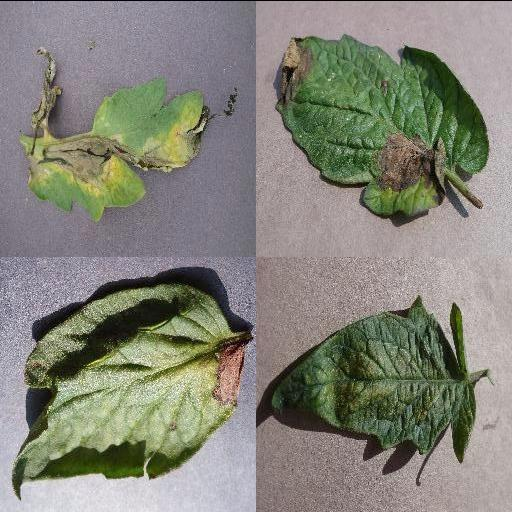Late Blight: (9, 280, 253, 500), (20, 43, 236, 223), (273, 34, 489, 214)
Spider Mites: (270, 294, 476, 464)
